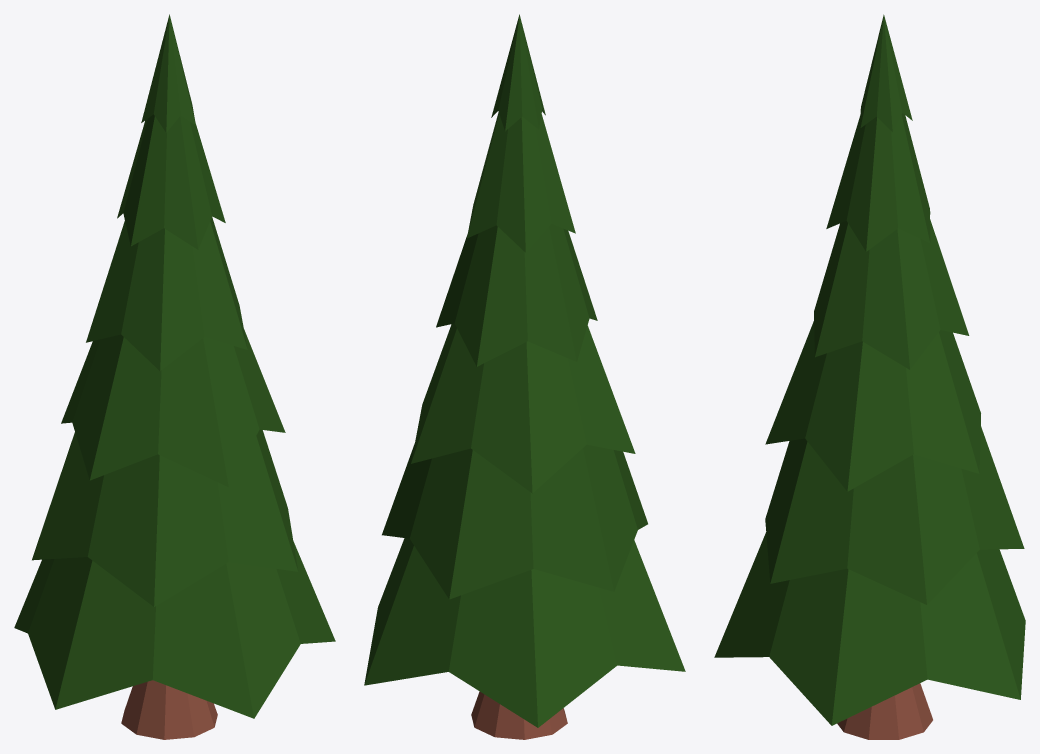
File: Tree.obj
3 views of the same model, side by side, from view 1: azimuth 30°, elevation 25°; view 2: azimuth 150°, elevation 25°; view 3: azimuth 270°, elevation 25° (orthographic).
Parts seen in each view (by area): view 1: Cylinder_Cylinder.001; view 2: Cylinder_Cylinder.001; view 3: Cylinder_Cylinder.001.
Part boxes in pixels (x1,y1,x2,y2): Cylinder_Cylinder.001: (14,14,335,739); Cylinder_Cylinder.001: (364,14,685,739); Cylinder_Cylinder.001: (714,14,1025,739).
Size of the model in its own units: 4.58 by 11 by 4.4.
1 material, 1 textured.
